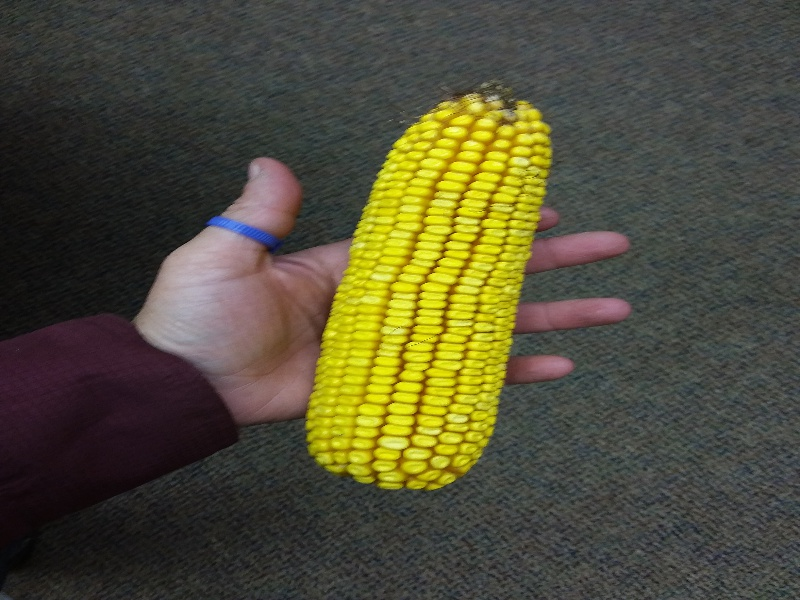band: (203, 213, 283, 255)
ear: (299, 77, 557, 496)
